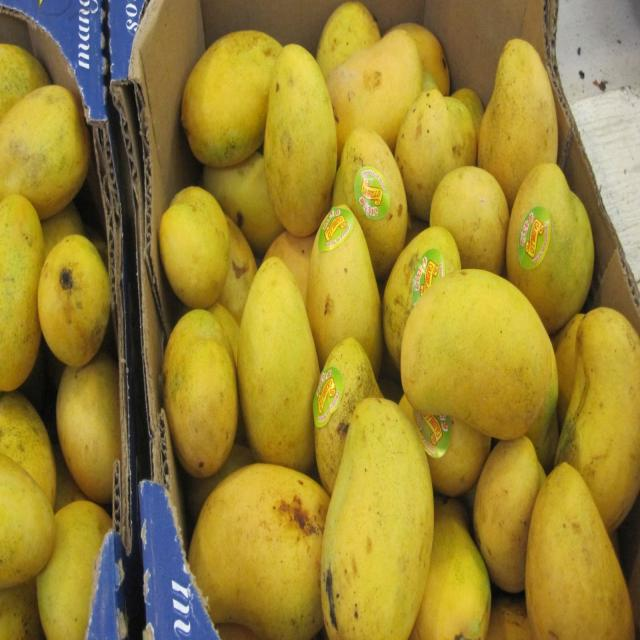Mango: (397, 262, 557, 472), (322, 402, 445, 640), (190, 446, 339, 626), (516, 457, 640, 640), (236, 253, 325, 473), (557, 290, 640, 516), (299, 187, 383, 390), (506, 139, 595, 324), (471, 18, 559, 198), (253, 46, 338, 228), (44, 333, 132, 498), (178, 28, 300, 146), (321, 124, 416, 268), (325, 12, 421, 150), (0, 76, 90, 216), (32, 222, 110, 376), (160, 162, 230, 324)
